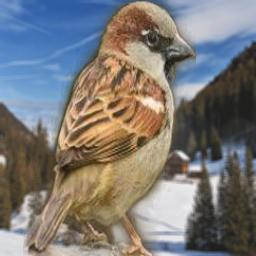Sparrow: (23, 0, 196, 256)
